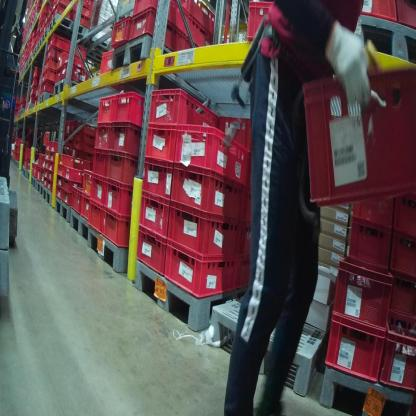pallet: (212, 288, 329, 408), (132, 259, 245, 336), (318, 366, 415, 414), (350, 16, 415, 71), (106, 35, 190, 73), (83, 219, 128, 274), (0, 245, 17, 322), (49, 12, 87, 46), (82, 30, 114, 60), (68, 209, 89, 246), (53, 77, 89, 98), (2, 172, 11, 249), (8, 186, 18, 251), (38, 90, 62, 109), (56, 195, 70, 223), (42, 187, 53, 209), (35, 176, 45, 198), (33, 44, 45, 61), (29, 53, 41, 66), (41, 28, 51, 42), (28, 103, 38, 114), (30, 175, 37, 190), (37, 36, 43, 53), (14, 160, 23, 170), (24, 168, 30, 180), (20, 108, 26, 117), (21, 165, 25, 177), (17, 109, 20, 117)
small_load_carrier: (296, 62, 413, 209), (323, 250, 394, 385), (50, 4, 93, 153), (168, 158, 245, 230), (170, 124, 246, 186), (166, 237, 243, 297), (166, 198, 236, 263), (144, 89, 221, 145), (213, 112, 270, 169), (127, 9, 187, 56), (348, 218, 394, 274), (349, 190, 394, 246), (374, 330, 416, 389), (138, 152, 178, 208), (136, 189, 171, 252), (131, 223, 169, 281), (385, 271, 416, 329), (143, 123, 179, 170), (133, 3, 188, 32), (106, 151, 140, 197), (246, 2, 285, 41), (112, 86, 145, 129), (188, 1, 222, 39), (105, 178, 135, 221), (185, 12, 214, 54), (101, 208, 131, 248), (351, 2, 398, 27), (391, 239, 415, 284), (108, 123, 138, 159), (397, 191, 415, 241), (108, 16, 133, 47), (62, 60, 90, 86), (97, 48, 118, 79), (243, 194, 258, 237), (94, 92, 114, 124), (94, 121, 113, 154), (87, 174, 106, 207), (90, 146, 108, 180), (243, 156, 259, 194), (55, 50, 85, 69), (89, 199, 104, 236), (47, 34, 73, 54), (69, 183, 84, 217), (397, 2, 415, 30), (235, 265, 256, 288), (41, 56, 63, 77), (82, 170, 95, 200), (242, 228, 253, 263), (51, 4, 75, 20), (63, 154, 84, 172), (45, 44, 62, 65), (62, 167, 83, 183), (74, 10, 92, 28), (80, 196, 92, 222), (40, 64, 55, 84), (40, 79, 56, 97), (73, 41, 87, 60), (24, 146, 36, 160), (61, 176, 70, 194), (61, 189, 70, 206), (63, 121, 72, 135), (37, 153, 44, 170), (56, 164, 65, 177), (56, 152, 65, 164), (55, 69, 64, 81), (49, 149, 57, 162), (24, 160, 34, 170), (46, 178, 53, 191), (56, 173, 62, 188), (33, 163, 38, 180), (55, 187, 61, 201), (44, 151, 51, 162), (48, 160, 54, 172), (43, 168, 49, 180), (45, 140, 51, 151), (48, 169, 53, 181), (44, 159, 49, 171), (40, 168, 44, 183), (31, 162, 35, 175), (43, 177, 48, 187), (42, 154, 46, 166), (37, 165, 40, 180)
